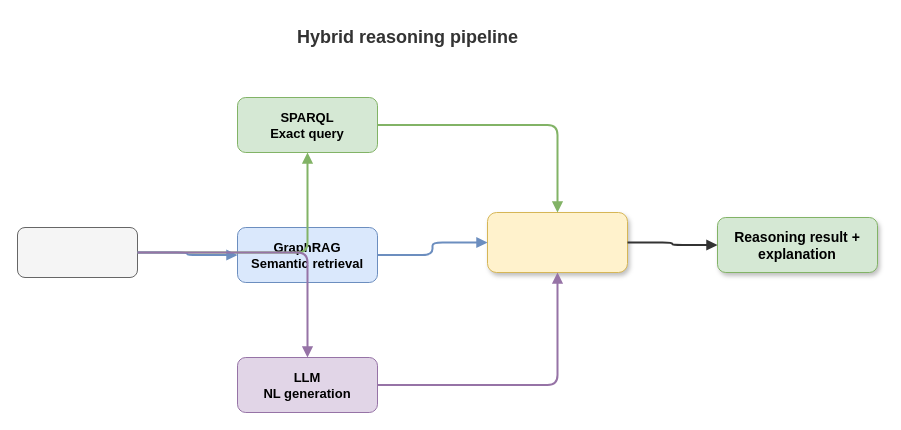
This 901x430 diagram has some shape labels left out. Here are the shapes that lost their labels. From the top down, the centre of each, then its label:
At [77,252]: "Query input".
At [558,244]: "Evidence fusion".
